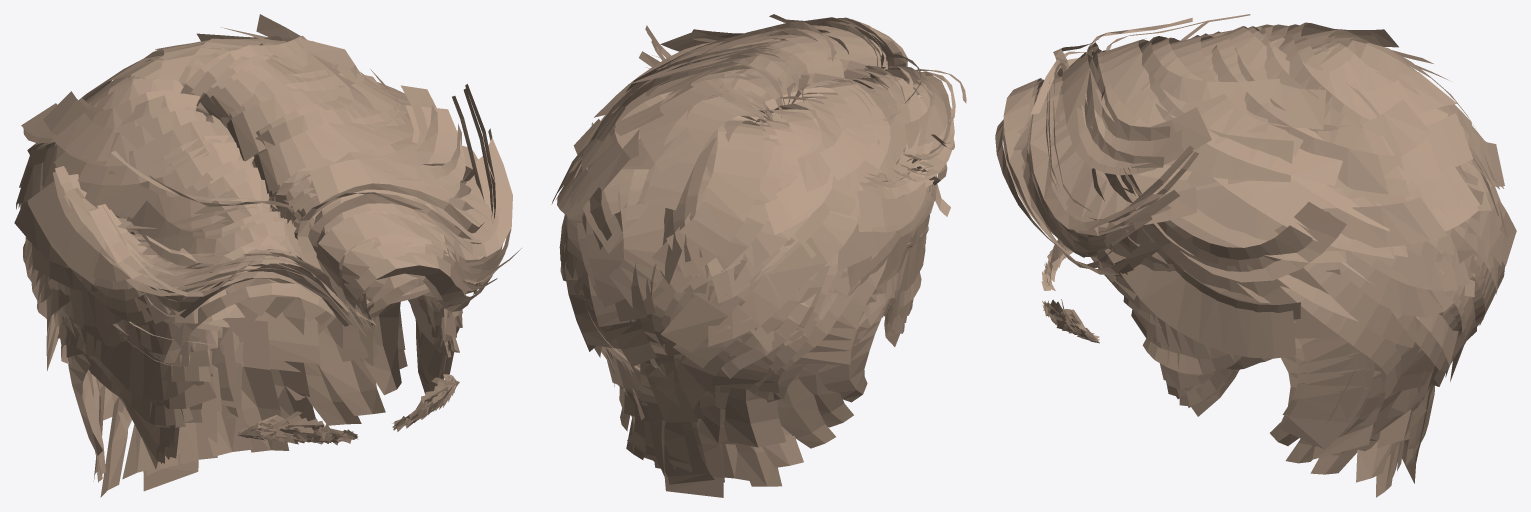
Rendered from male_hair_12_lod0.glb.
3 views of the same model, side by side, from view 1: azimuth 30°, elevation 25°; view 2: azimuth 150°, elevation 25°; view 3: azimuth 270°, elevation 25° (orthographic). The views are drawn at different scales.
Parts seen in each view (by area): view 1: hair_12; view 2: hair_12; view 3: hair_12.
Part boxes in pixels (left/top/right/bottom): hair_12: left=14, top=14, right=521, bottom=497; hair_12: left=551, top=14, right=966, bottom=497; hair_12: left=995, top=14, right=1516, bottom=497.
Size of the model in its own units: 0.1747 by 0.2156 by 0.2315.
